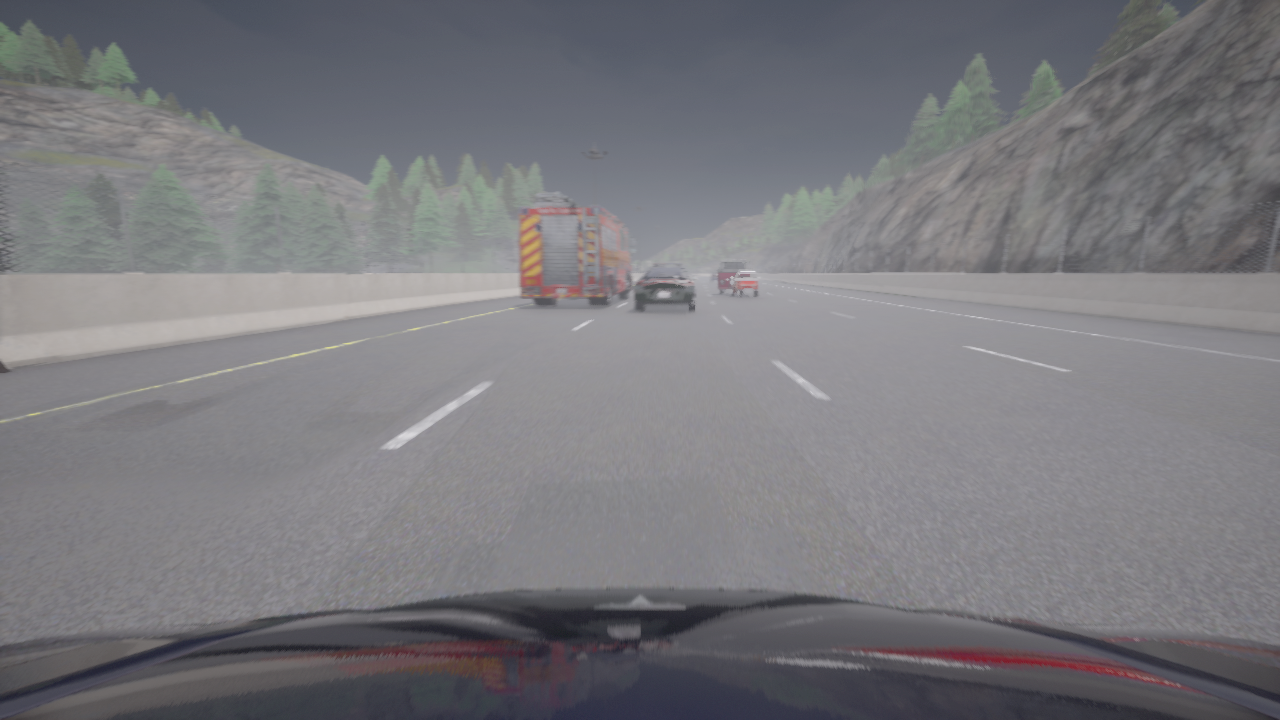cyclist: (0, 588, 1279, 719), (518, 193, 635, 306), (634, 263, 697, 311), (717, 259, 752, 295), (731, 270, 759, 298), (709, 269, 717, 283)
